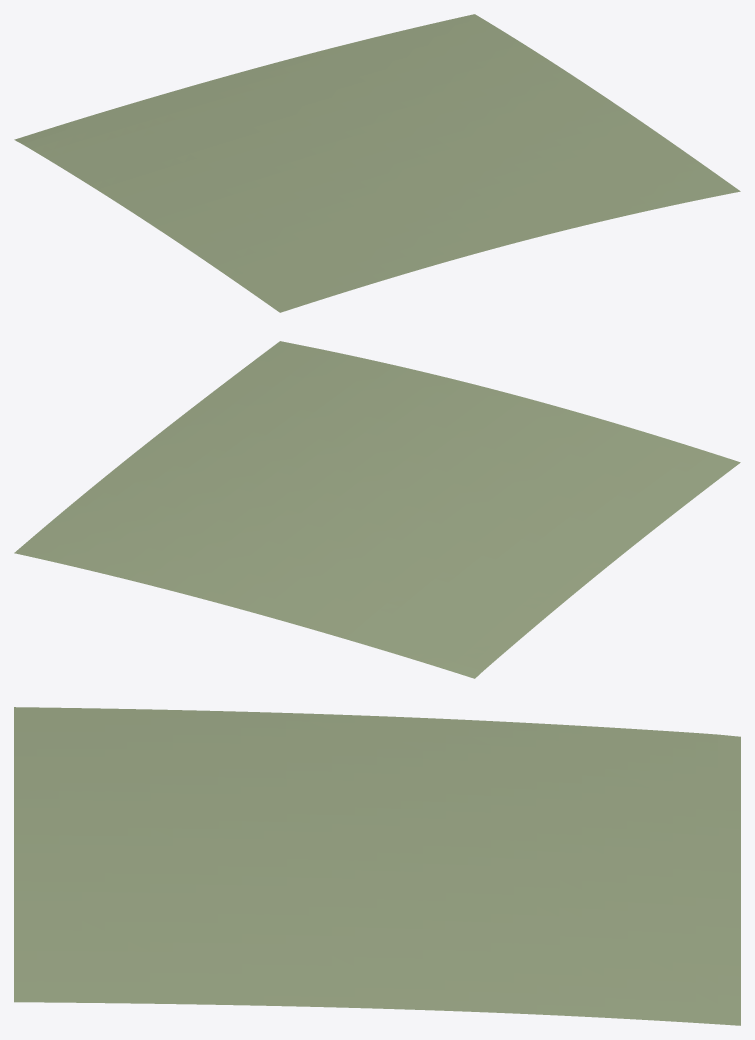
The model's file is valley-6-9.glb.
The picture shows the model from 3 angles, top to bottom: view 1: azimuth 30°, elevation 25°; view 2: azimuth 150°, elevation 25°; view 3: azimuth 270°, elevation 25°; orthographic projection. The views are drawn at different scales.
Visible parts, largest first — view 1: valley-6-9; view 2: valley-6-9; view 3: valley-6-9.
Boxes of the visible parts, left/top/right/bottom form: valley-6-9: left=14, top=14, right=740, bottom=312; valley-6-9: left=14, top=341, right=740, bottom=678; valley-6-9: left=14, top=707, right=740, bottom=1025.
Size of the model in its own units: 256 by 18.46 by 256.
